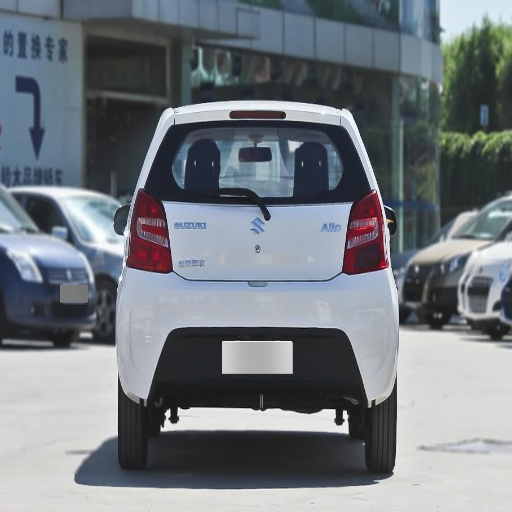back_bumper: (115, 268, 397, 404)
back_right_light: (346, 192, 388, 271)
trunk: (166, 201, 354, 281)
